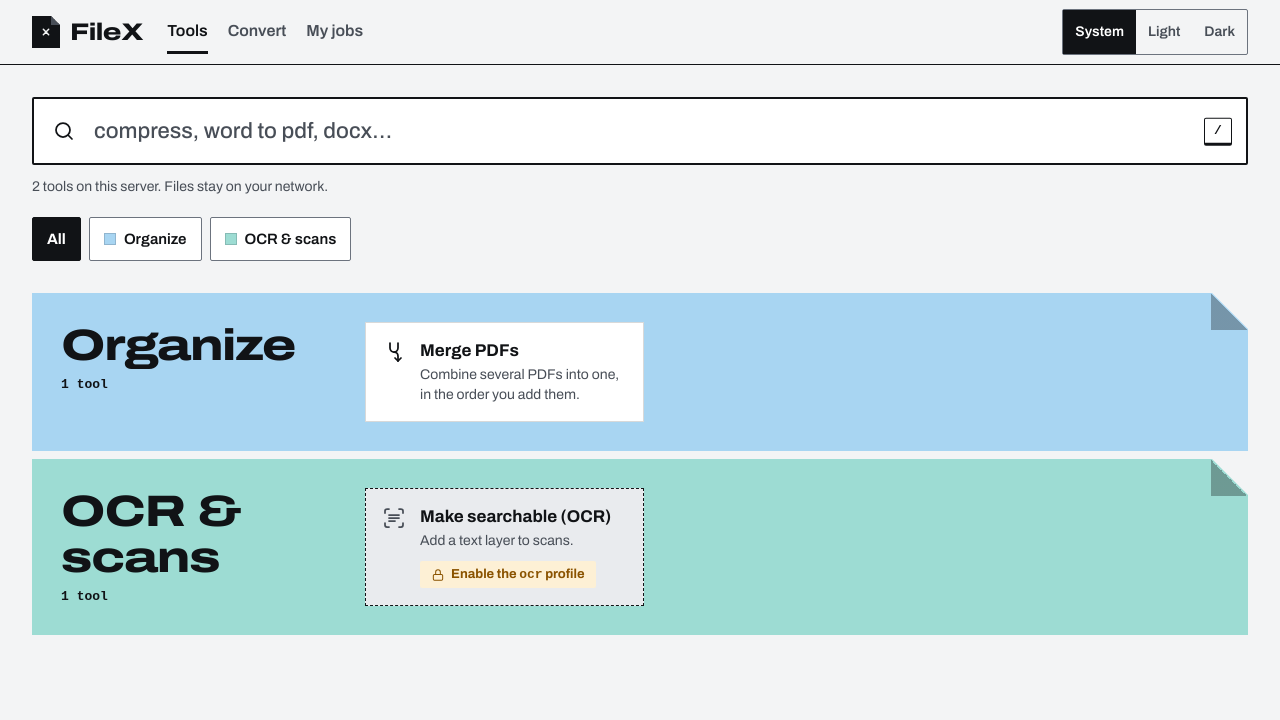
Scenario: catalog › filters by category chip
Check: the text "Merge PDFs" is shown, box [420,341,519,360]
Click the button "OCR & scans".
click(280, 239)  # box [210,217,351,261]
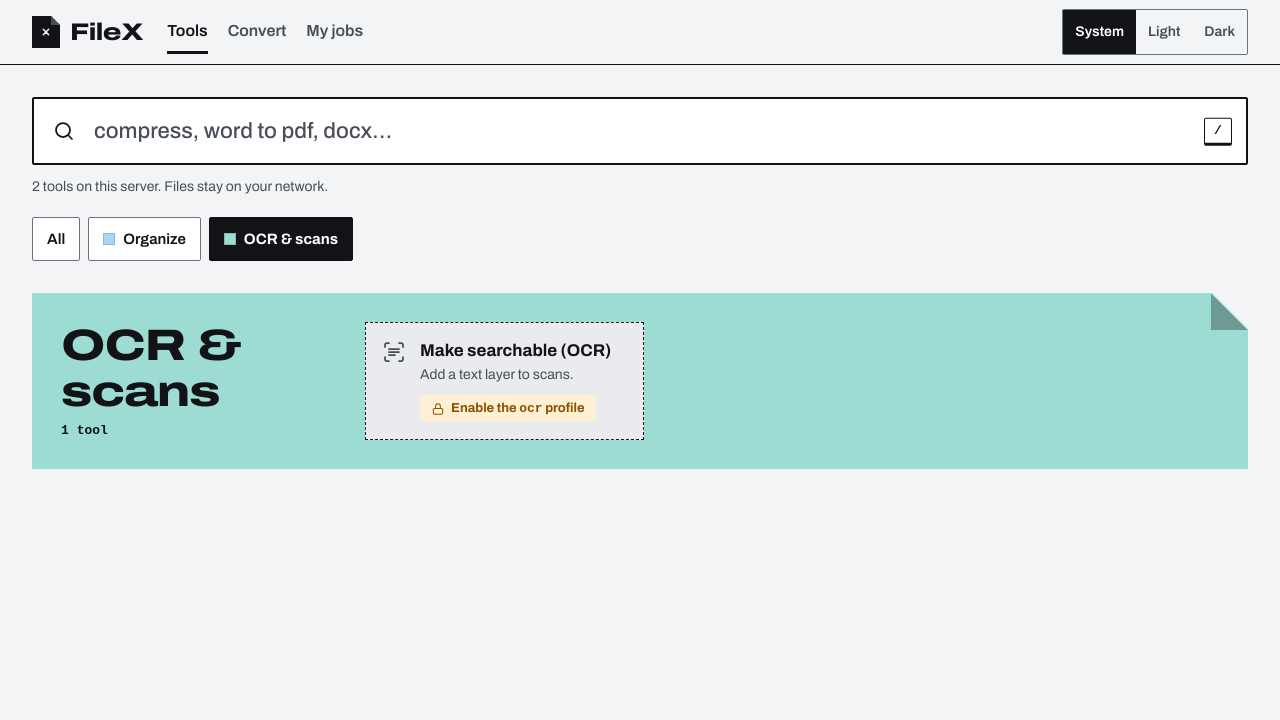
Check: the text "Make searchable (OCR)" is shown, box [420,339,611,363]
Check: the link "Merge PDFs" is gone
